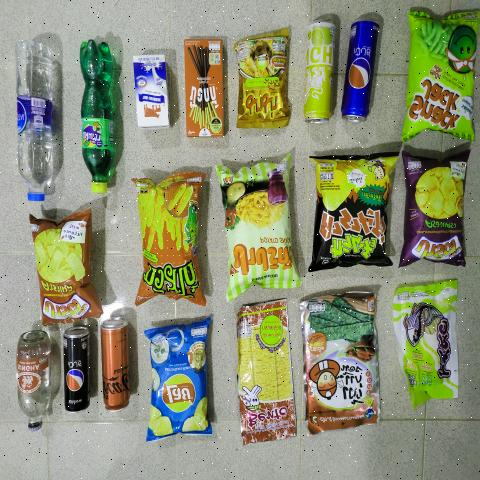bento_red: (236, 313, 292, 440)
coke_red: (98, 312, 133, 412)
crystal: (16, 30, 56, 208)
fanta_green: (77, 30, 118, 197)
karamujo: (316, 158, 389, 264)
lay_blue: (150, 328, 206, 430)
mama: (237, 36, 290, 128)
paprika: (230, 166, 289, 283)
party_purple: (403, 156, 470, 266)
party_red: (35, 218, 92, 320)
pepsi_black: (62, 328, 88, 414)
pepsi_blue: (341, 12, 382, 130)
pokki: (184, 38, 226, 139)
singha_soda: (16, 335, 56, 434)
singha_yellow: (302, 18, 334, 127)
snack_jack: (407, 8, 480, 132)
taokaenoi: (309, 285, 378, 430)
taro_yellow: (401, 286, 458, 400)
thai_denmark: (136, 50, 169, 130)
twisco: (140, 174, 199, 306)
